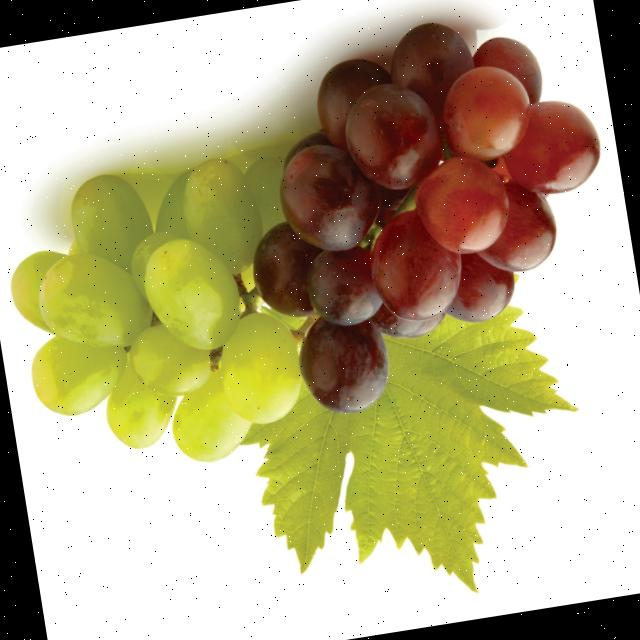grape: (12, 24, 599, 461)
